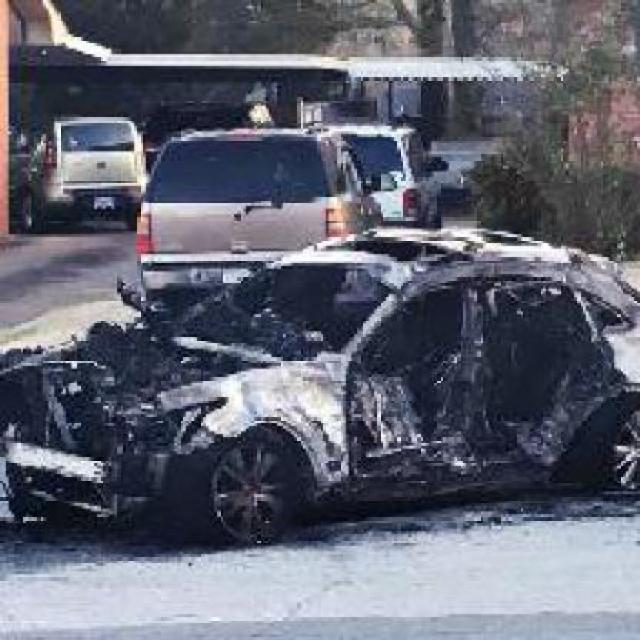damaged-door: (360, 280, 480, 489), (488, 274, 598, 477)
damaged-front-bumper: (5, 430, 184, 519)
damaged-hood: (32, 330, 228, 396)
damaged-windscreen: (195, 267, 374, 356)
